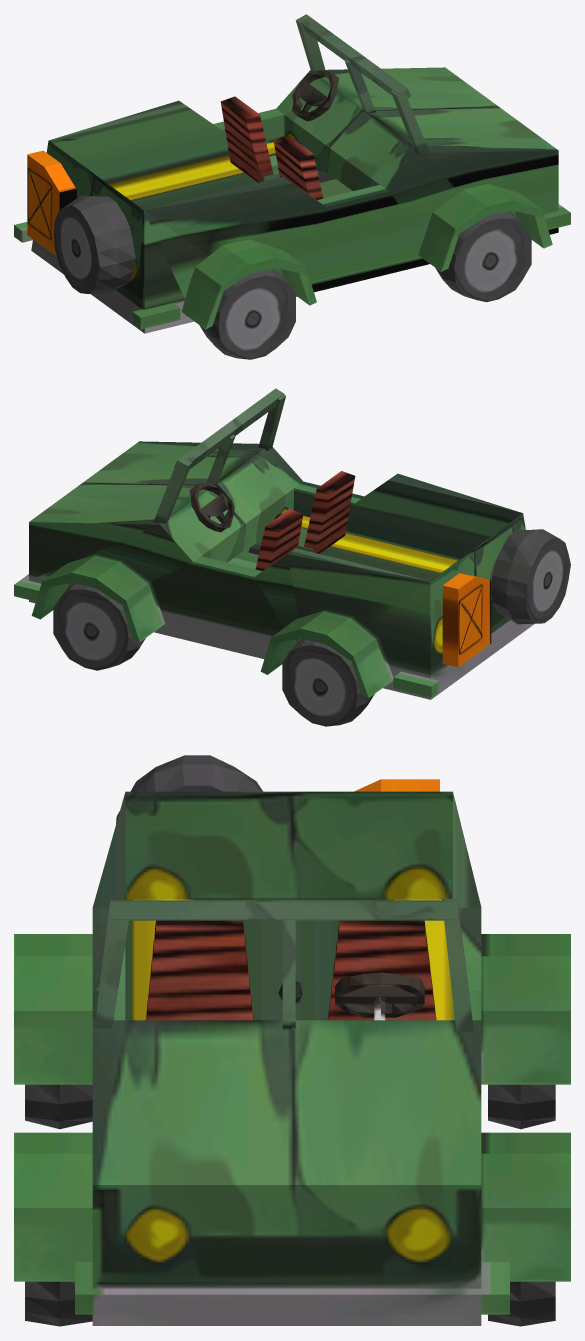
File: Jeep.glb
3 views of the same model, one above another, from view 1: azimuth 30°, elevation 25°; view 2: azimuth 150°, elevation 25°; view 3: azimuth 270°, elevation 25° (orthographic). The views are drawn at different scales.
Visible parts, largest first — view 1: Jeep; view 2: Jeep; view 3: Jeep.
Part boxes in pixels (x1,y1,x2,y2): Jeep: (14, 14, 570, 359); Jeep: (14, 388, 570, 726); Jeep: (14, 755, 570, 1326).
Bounding box in the file's own units: 468 × 207 × 287.
Materials: 1 (1 with a texture image).
